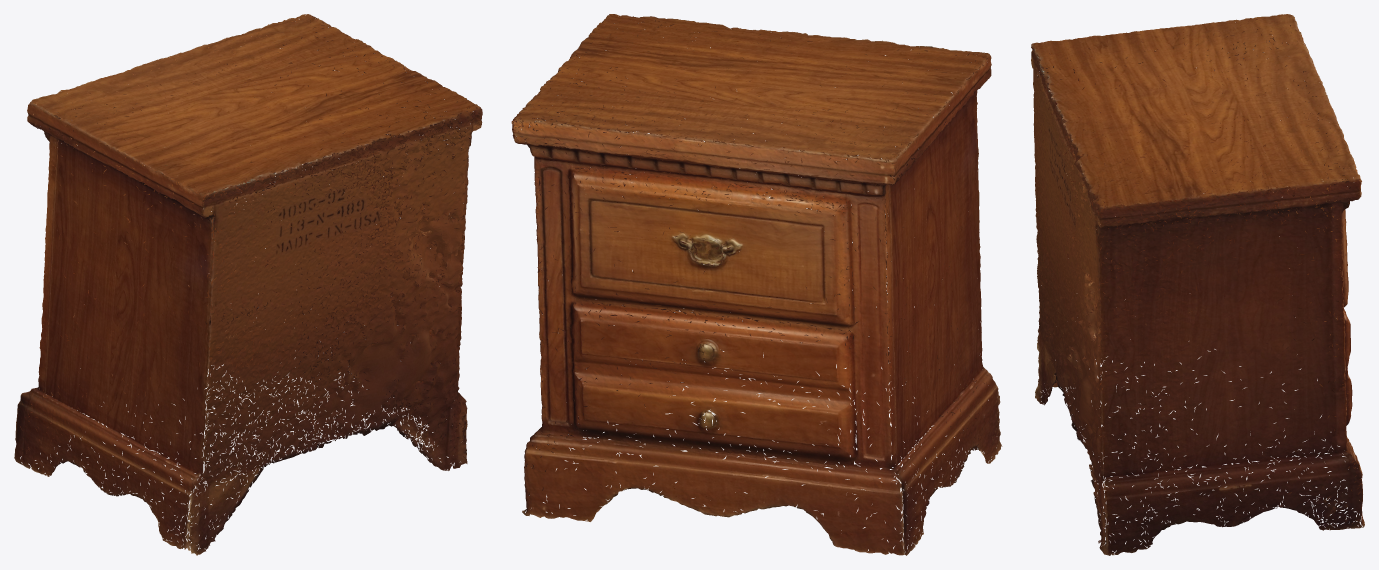
The model's file is obj_bedside_table_2cdb30.glb.
The picture shows the model from 3 angles, left to right: view 1: azimuth 30°, elevation 25°; view 2: azimuth 150°, elevation 25°; view 3: azimuth 270°, elevation 25°; orthographic projection. The views are drawn at different scales.
Parts seen in each view (by area): view 1: obj_bedside_table_2cdb30; view 2: obj_bedside_table_2cdb30; view 3: obj_bedside_table_2cdb30.
Boxes of the visible parts, x1=… form: obj_bedside_table_2cdb30: x1=14, y1=14, x2=482, y2=555; obj_bedside_table_2cdb30: x1=511, y1=14, x2=1002, y2=555; obj_bedside_table_2cdb30: x1=1031, y1=14, x2=1364, y2=555.
Bounding box in the file's own units: 0.9186 × 0.9 × 0.7246.
2 materials, 1 textured.
